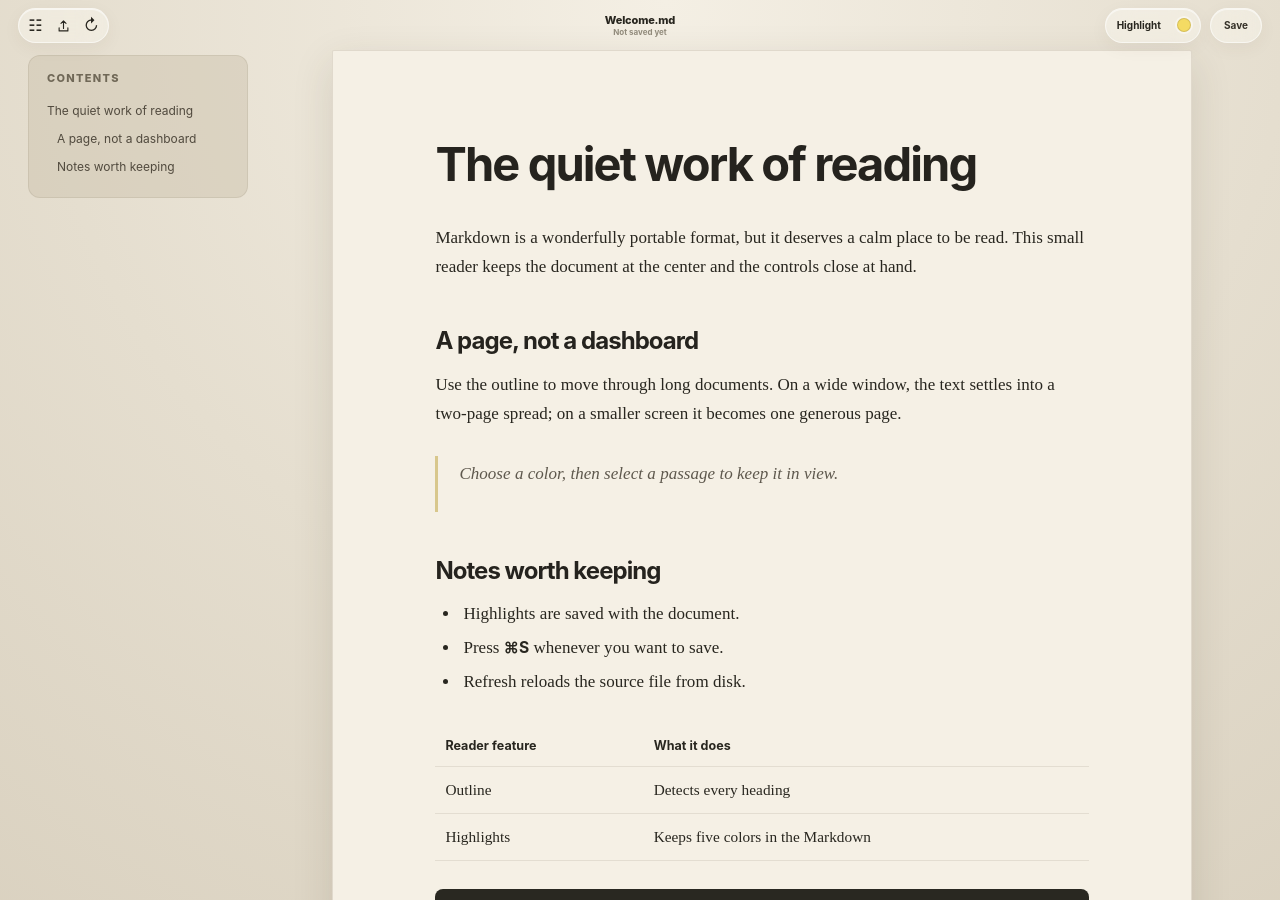
Test: Reader controls › shows highlighted heading text without HTML tags in the contents list
The image size is (1280, 900).
Click the button named "Upload Markdown file". click: click(64, 25)
box: x1=50 y1=12 x2=77 y2=38
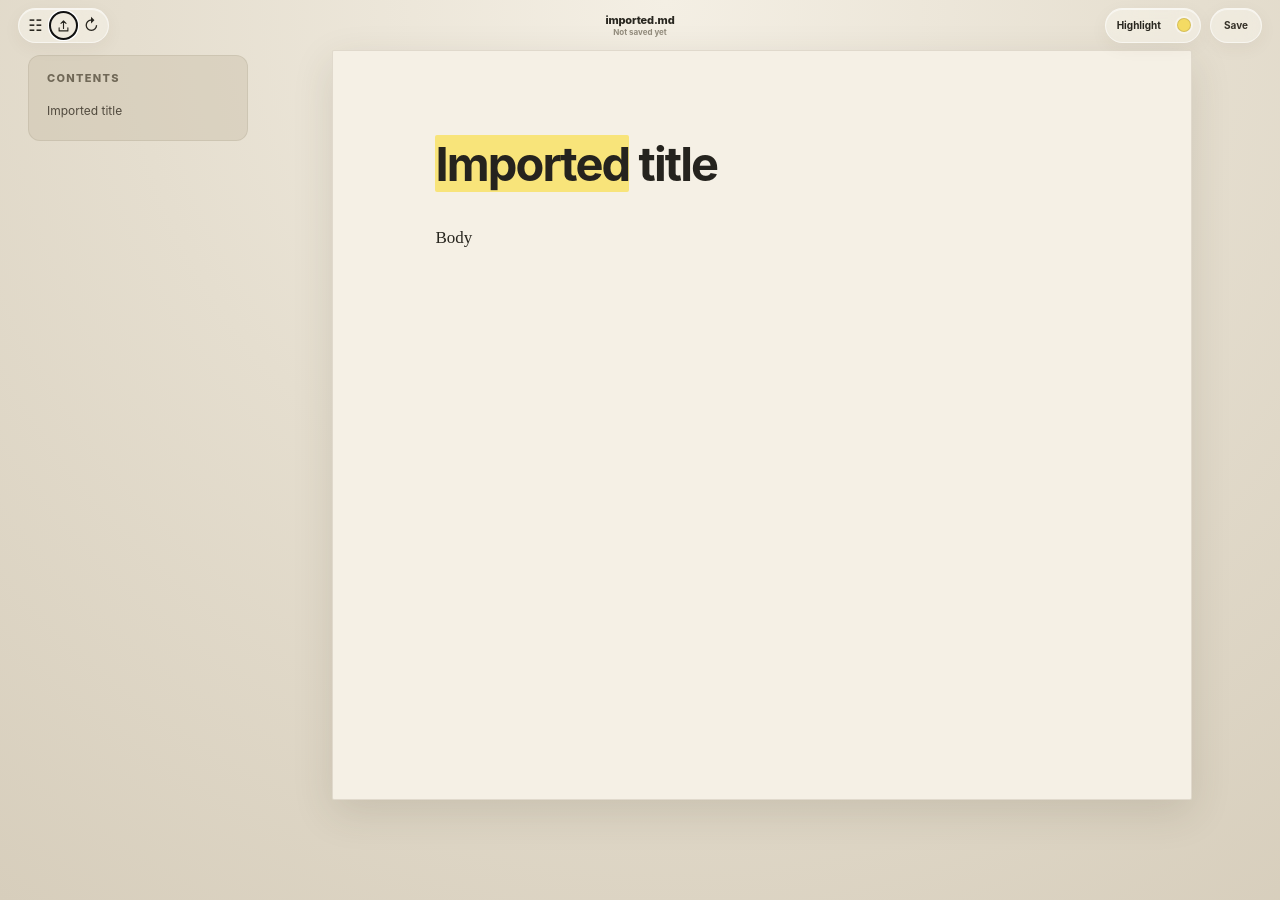
Now the button "Imported title" is shown, box x1=37 y1=97 x2=239 y2=125
